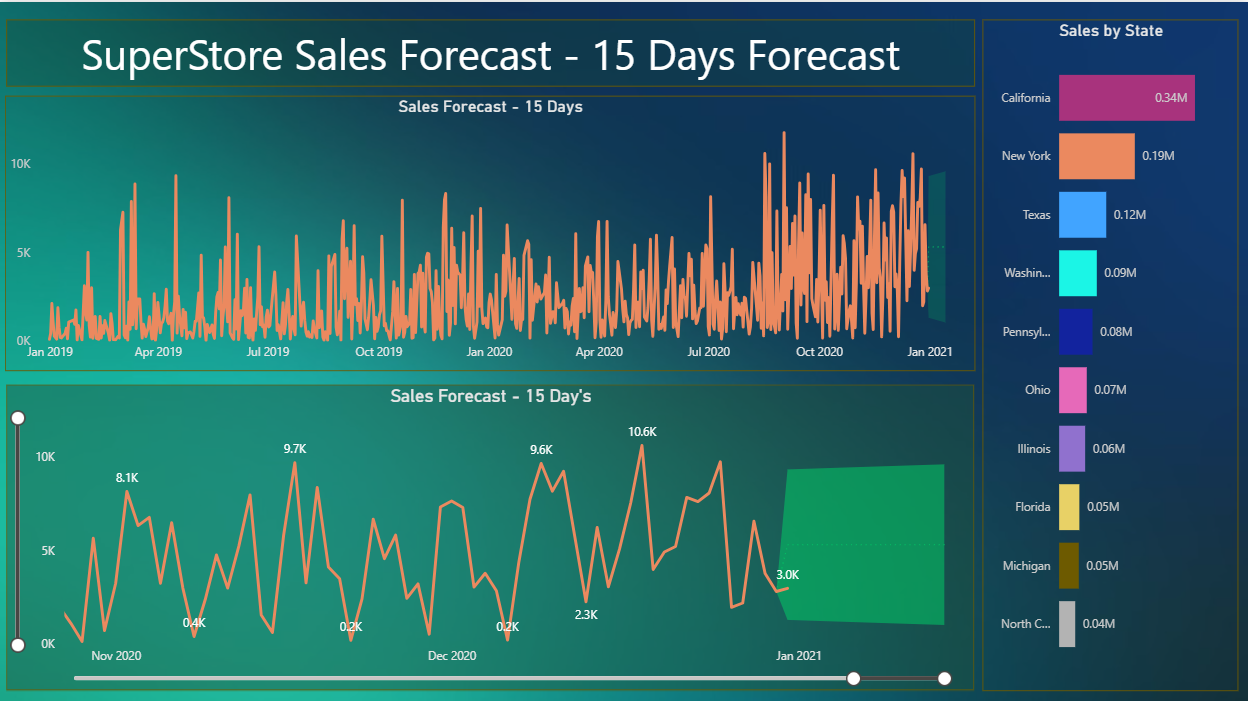

Layout of this report page (visuals, bound fields, positions):
{"tool":"powerbi","page":{"name":"Page 2","canvas":[1280,720],"ordinal":1},"visuals":[{"type":"lineChart","title":"Sales Forecast  - 15 Days  ","fields":{"Y":["Sum(SuperStore_Sales_Dataset.Sales)"],"Category":["SuperStore_Sales_Dataset.Order Date"]},"box":[5,96.2,995,282.5],"z":0},{"type":"lineChart","title":"Sales Forecast - 15 Day''s","fields":{"Y":["Sum(SuperStore_Sales_Dataset.Sales)"],"Category":["SuperStore_Sales_Dataset.Order Date"]},"box":[6.2,392.5,992.5,313.8],"z":1000},{"type":"clusteredBarChart","title":"Sales by State","fields":{"Category":["SuperStore_Sales_Dataset.State"],"Y":["Sum(SuperStore_Sales_Dataset.Sales)"]},"box":[1007.5,17.5,262.5,688.8],"z":2000},{"type":"textbox","box":[6.2,17.5,993.8,68.8],"z":2001}]}

Visuals, with their boxes in screenshot pixels (x1, y1, x2, y2), scaled from the page's 1280x720 canvas onto the 1248x701 screenshot:
"Sales Forecast  - 15 Days  " lineChart: {"left": 5, "top": 94, "right": 975, "bottom": 369}
"Sales Forecast - 15 Day''s" lineChart: {"left": 6, "top": 382, "right": 974, "bottom": 688}
"Sales by State" clusteredBarChart: {"left": 982, "top": 17, "right": 1238, "bottom": 688}
textbox: {"left": 6, "top": 17, "right": 975, "bottom": 84}
